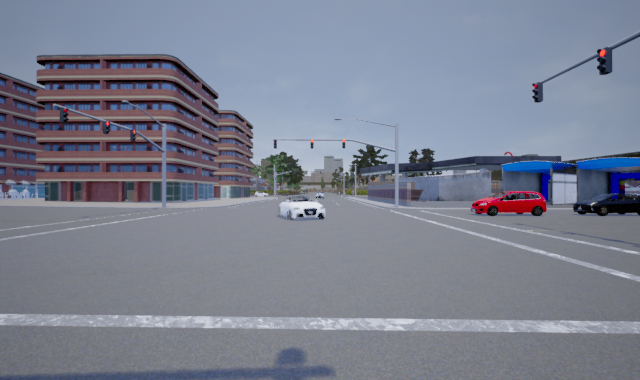traffic_light: (596, 46, 613, 77), (531, 81, 544, 105), (341, 138, 345, 149), (310, 138, 314, 149), (273, 139, 277, 149)
vehicle: (469, 191, 552, 216), (572, 193, 639, 216), (275, 194, 328, 222)
